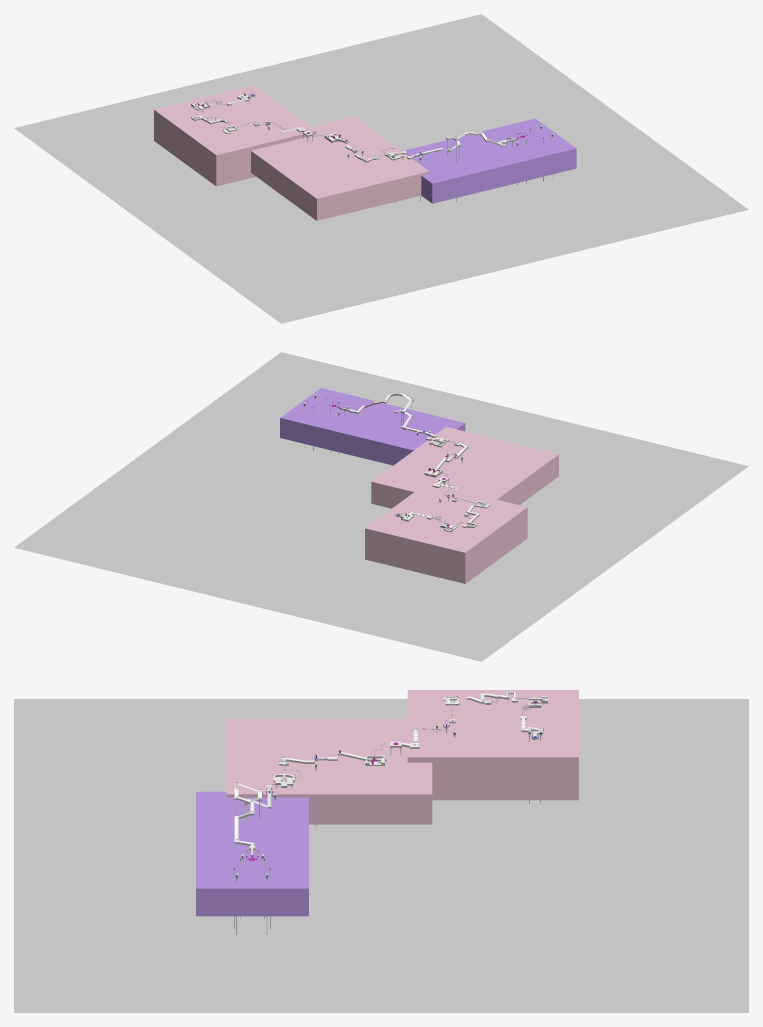
Rendered from level1.fbx.
3 renders of one model, top to bottom at view 1: azimuth 30°, elevation 25°; view 2: azimuth 150°, elevation 25°; view 3: azimuth 270°, elevation 25°, orthographic. The views are drawn at different scales.
Parts seen in each view (by area): view 1: objSkyLayer, objQuader02, objQuader01, objQuader03; view 2: objSkyLayer, objQuader01, objQuader02, objQuader03; view 3: objSkyLayer, objQuader02, objQuader01, objQuader03.
Boxes of the visible parts, left/top/right/bottom form: objSkyLayer: left=14, top=14, right=748, bottom=323; objQuader02: left=251, top=116, right=429, bottom=220; objQuader01: left=154, top=85, right=316, bottom=186; objQuader03: left=402, top=118, right=576, bottom=203; objSkyLayer: left=14, top=352, right=748, bottom=661; objQuader01: left=365, top=482, right=527, bottom=583; objQuader02: left=371, top=427, right=558, bottom=508; objQuader03: left=280, top=388, right=465, bottom=465; objSkyLayer: left=14, top=699, right=748, bottom=1012; objQuader02: left=226, top=718, right=432, bottom=824; objQuader01: left=407, top=690, right=578, bottom=800; objQuader03: left=196, top=791, right=308, bottom=916.
Size of the model in its own units: 189308 by 43588 by 187350.
